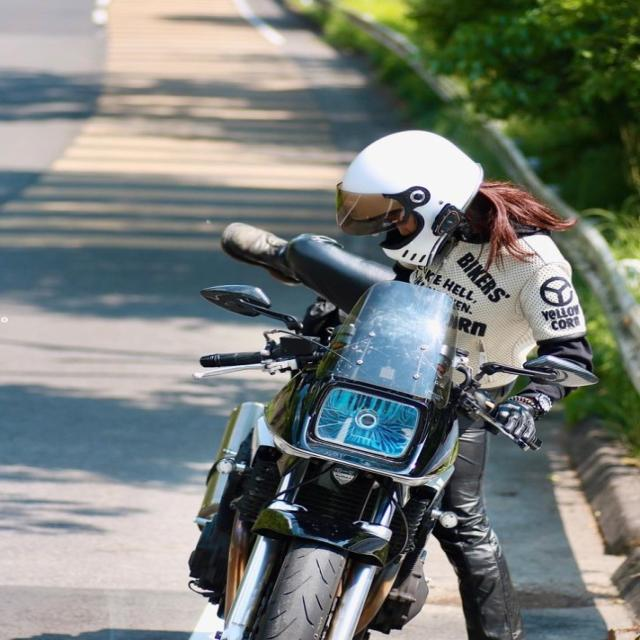helmet: (331, 126, 488, 273)
